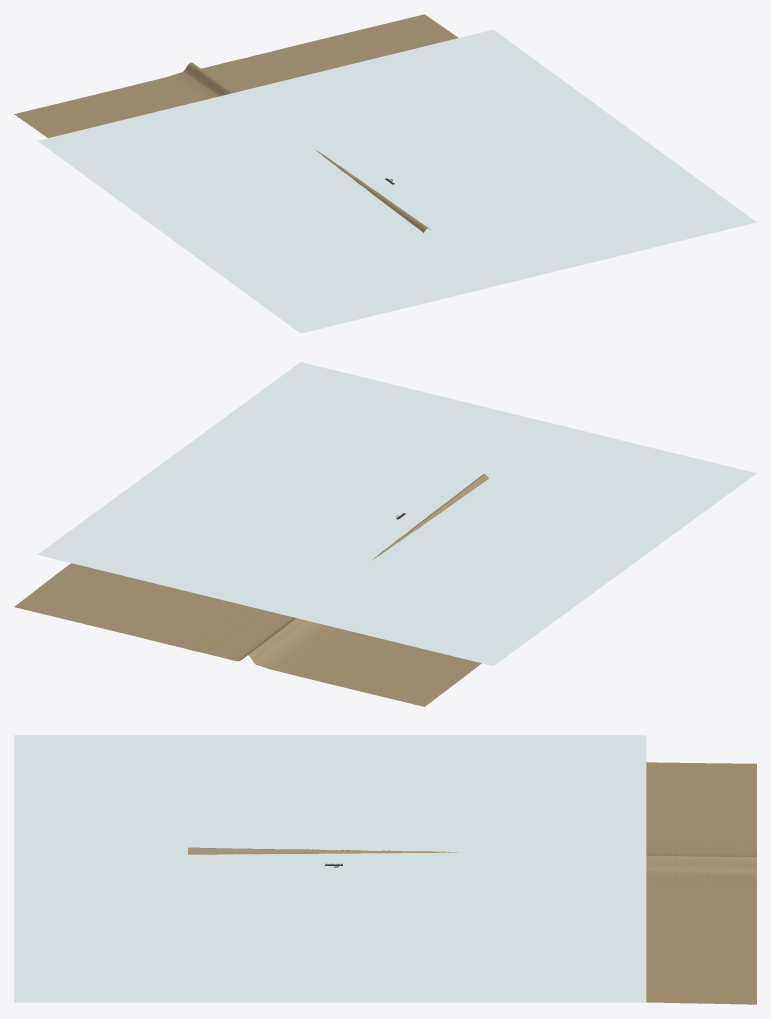
The model's file is CoralBay.fbx.
3 views of the same model, one above another, from view 1: azimuth 30°, elevation 25°; view 2: azimuth 150°, elevation 25°; view 3: azimuth 270°, elevation 25° (orthographic). The views are drawn at different scales.
Parts seen in each view (by area): view 1: Water_LOD0, Terrain_LOD0; view 2: Water_LOD0, Terrain_LOD0; view 3: Water_LOD0, Terrain_LOD0.
Part boxes in pixels (x1,y1,x2,y2): Water_LOD0: [37, 29, 756, 333]; Terrain_LOD0: [14, 14, 458, 232]; Water_LOD0: [37, 362, 756, 665]; Terrain_LOD0: [14, 474, 488, 706]; Water_LOD0: [14, 735, 646, 1002]; Terrain_LOD0: [188, 762, 756, 1004].
Size of what is drawn, in the model's own units: 40000 by 1390 by 47000.
13 materials, 6 textured.
